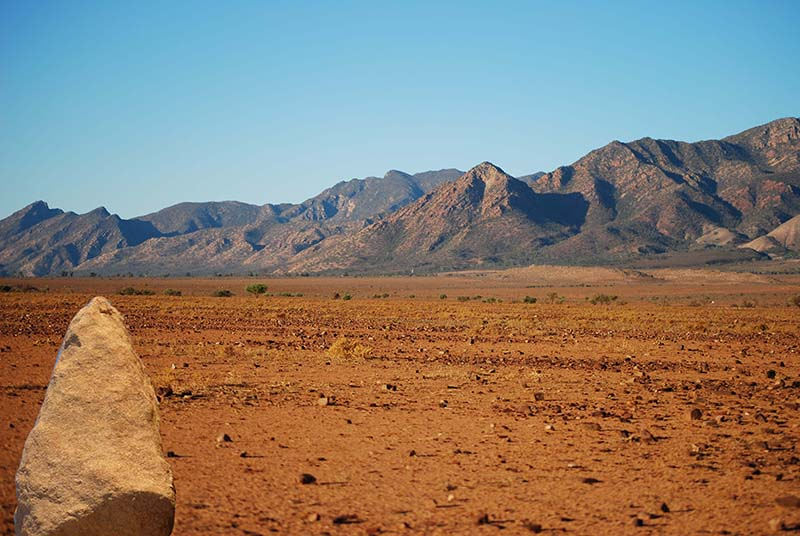Rocks: (8, 292, 185, 536)
